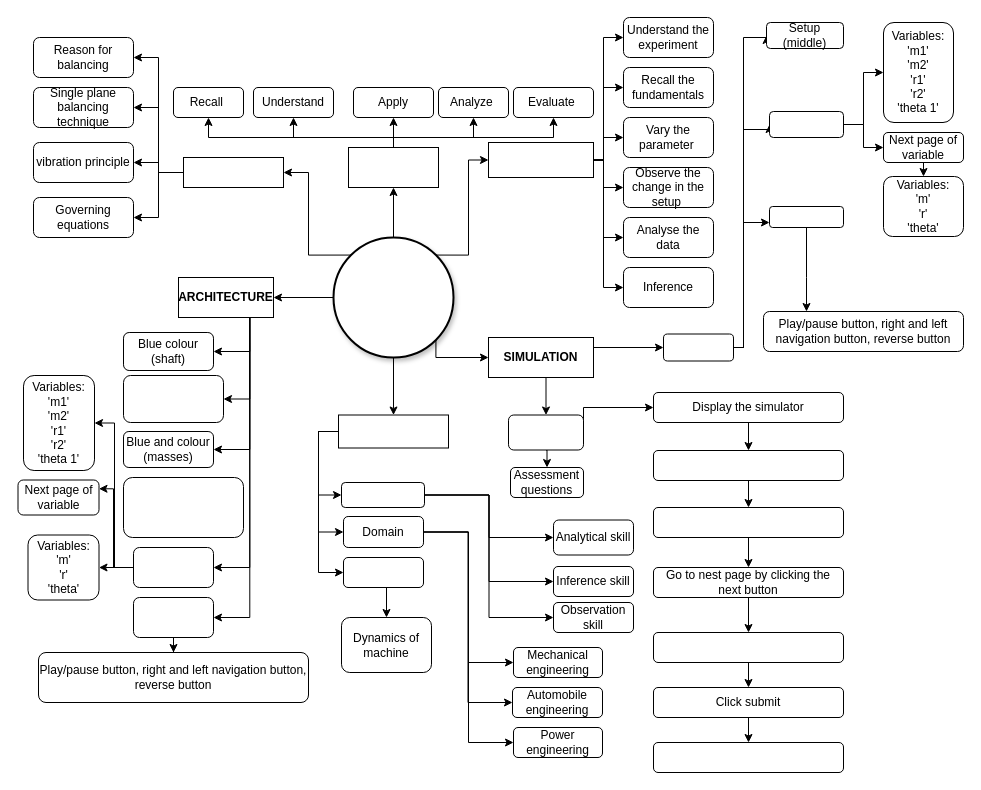
Image size: 981x790. Some labels were removed from this diagram. Here are the shapes that lost their labels. From the top down, the centre of each, then its label:
At (x=806, y=124): "Variable".
At (x=233, y=172): "INTRODUCTION".
At (x=393, y=167): "cognitive level".
At (x=541, y=160): "STRATEGY (EXPOSITORY)".
At (x=806, y=217): "Control".
At (x=394, y=298): "Balancing of masses in single plane".
At (x=698, y=347): "Visual".
At (x=173, y=398): "Light blue and red colour (links)".
At (x=393, y=431): "INFORMATION".
At (x=546, y=432): "Pathway".
At (x=748, y=465): "Click below m1, m2, r1, r2 and theta 1".
At (x=183, y=507): "Arc between links (red, blue, green, yellow)".
At (x=382, y=495): "Focus".
At (x=748, y=522): "change m1, m2, r1, r2 and theta1 with slider".
At (x=173, y=567): "Variable tab".
At (x=383, y=572): "Cource".
At (x=173, y=617): "Control tab".
At (x=748, y=647): "Enter the analytically calculated results".
At (x=748, y=757): "Compare results".
